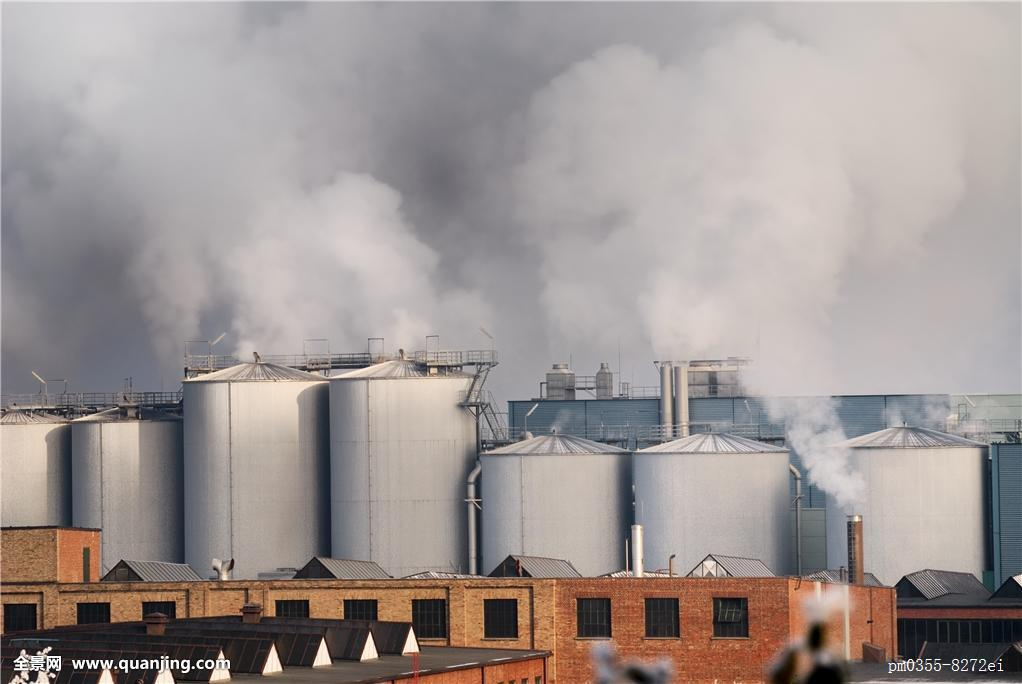dust: (608, 158, 819, 382), (791, 354, 882, 538)
